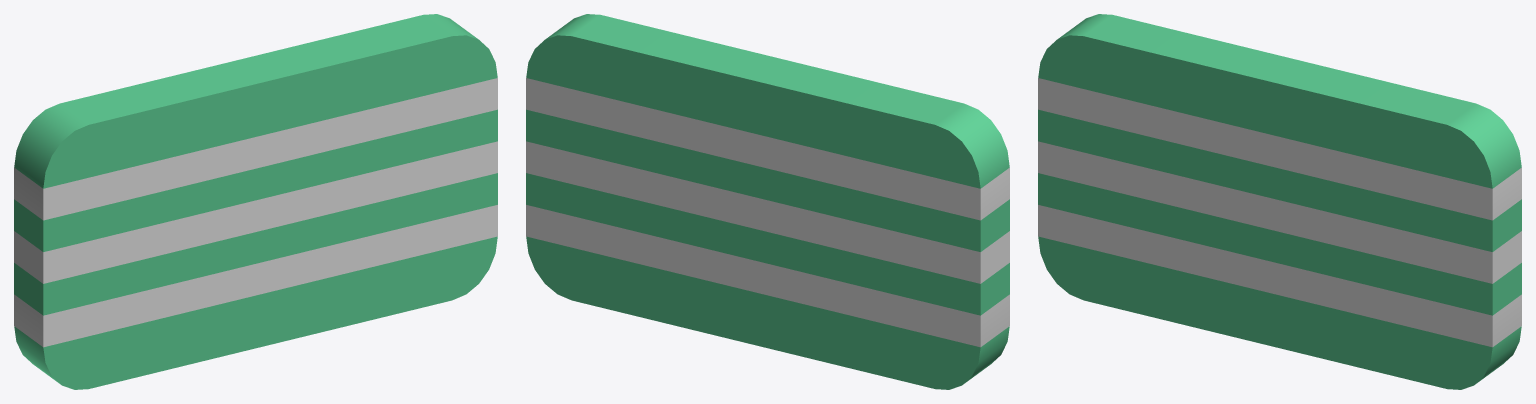
The model's file is Keycard.fbx.
3 renders of one model, left to right at view 1: azimuth 30°, elevation 25°; view 2: azimuth 150°, elevation 25°; view 3: azimuth 330°, elevation 25°, orthographic.
Parts seen in each view (by area): view 1: Keycard; view 2: Keycard; view 3: Keycard.
Part boxes in pixels (<box>): Keycard: <box>14,14,497,389</box>; Keycard: <box>526,14,1009,389</box>; Keycard: <box>1038,14,1521,389</box>.
Size of the model in its own units: 0.09 by 0.05 by 0.01.
